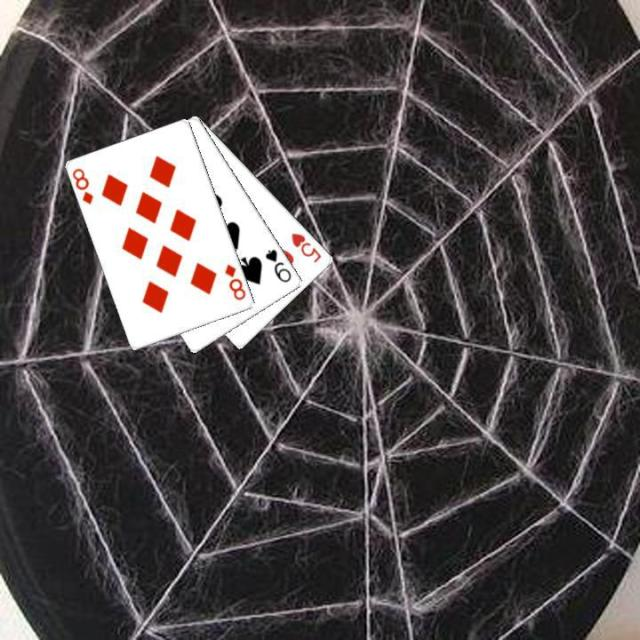5H: (288, 229, 324, 265)
8D: (221, 260, 248, 302), (69, 164, 95, 207)
9S: (262, 246, 294, 284)
